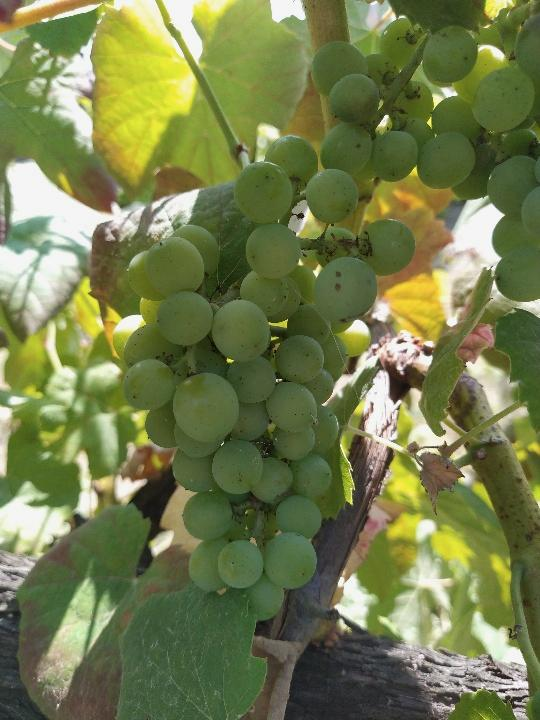grape: (84, 132, 416, 625)
